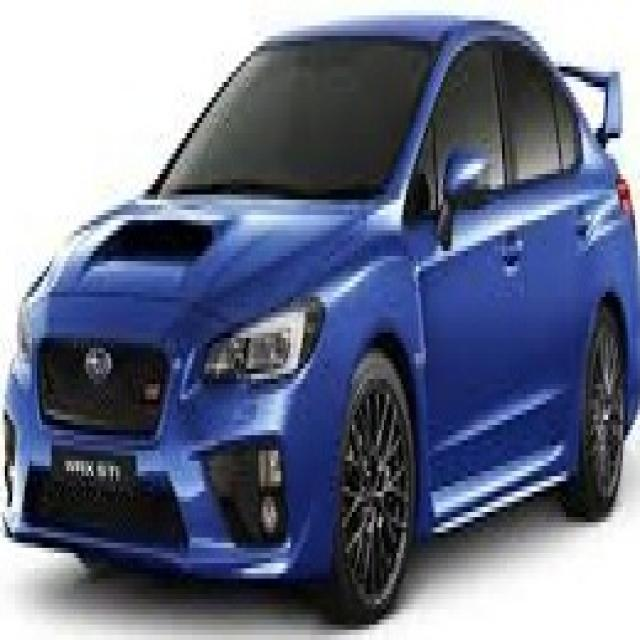blue: (5, 10, 640, 599)
